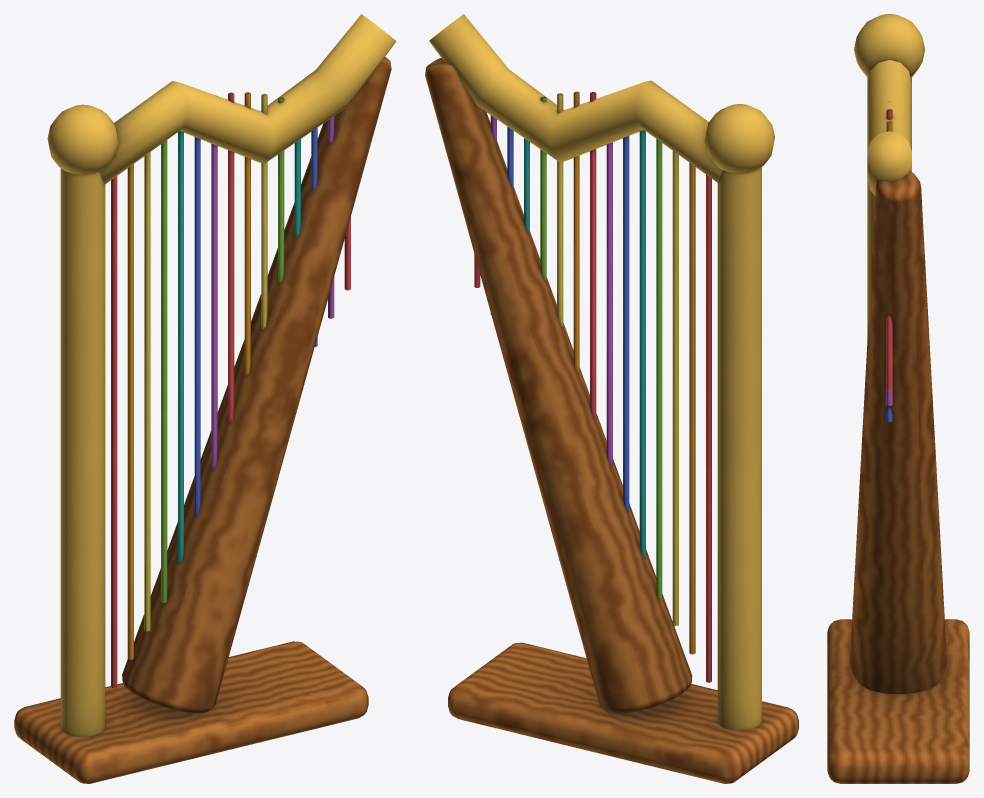
File: Harp.fbx
The picture shows the model from 3 angles, left to right: view 1: azimuth 30°, elevation 25°; view 2: azimuth 150°, elevation 25°; view 3: azimuth 270°, elevation 25°; orthographic projection.
Parts seen in each view (by area): view 1: Harp_Body, String_0_Mesh.006, String_1_Mesh.006, String_2_Mesh.006, String_3_Mesh.006, String_5_Mesh.002, String_4_Mesh.003, String_6_Mesh, String_7_Mesh, String_8_Mesh, String_9_Mesh, String_10_Mesh (+1 smaller); view 2: Harp_Body, String_1_Mesh.006, String_2_Mesh.006, String_3_Mesh.006, String_0_Mesh.006, String_4_Mesh.003, String_5_Mesh.002, String_6_Mesh, String_7_Mesh, String_8_Mesh, String_9_Mesh, String_10_Mesh; view 3: Harp_Body, String_14_Mesh.
Part boxes in pixels (x1,y1,x2,y2): Harp_Body: (14, 14, 396, 783); String_0_Mesh.006: (111, 176, 117, 688); String_1_Mesh.006: (127, 164, 133, 659); String_2_Mesh.006: (144, 152, 150, 631); String_3_Mesh.006: (161, 140, 167, 602); String_5_Mesh.002: (194, 137, 200, 517); String_4_Mesh.003: (178, 131, 183, 564); String_6_Mesh: (211, 96, 217, 470); String_7_Mesh: (228, 92, 234, 423); String_8_Mesh: (244, 92, 250, 377); String_9_Mesh: (261, 94, 267, 330); String_10_Mesh: (278, 97, 284, 284); Harp_Body: (425, 14, 798, 783); String_1_Mesh.006: (689, 162, 695, 654); String_2_Mesh.006: (672, 151, 678, 625); String_3_Mesh.006: (656, 139, 662, 597); String_0_Mesh.006: (706, 174, 711, 682); String_4_Mesh.003: (639, 130, 645, 558); String_5_Mesh.002: (623, 136, 629, 512); String_6_Mesh: (606, 142, 612, 466); String_7_Mesh: (590, 92, 596, 419); String_8_Mesh: (573, 91, 579, 373); String_9_Mesh: (557, 93, 563, 326); String_10_Mesh: (540, 96, 546, 280); Harp_Body: (827, 14, 969, 783); String_14_Mesh: (886, 314, 892, 389).
Size of the model in its own units: 0.8809 by 1.66 by 0.32.
